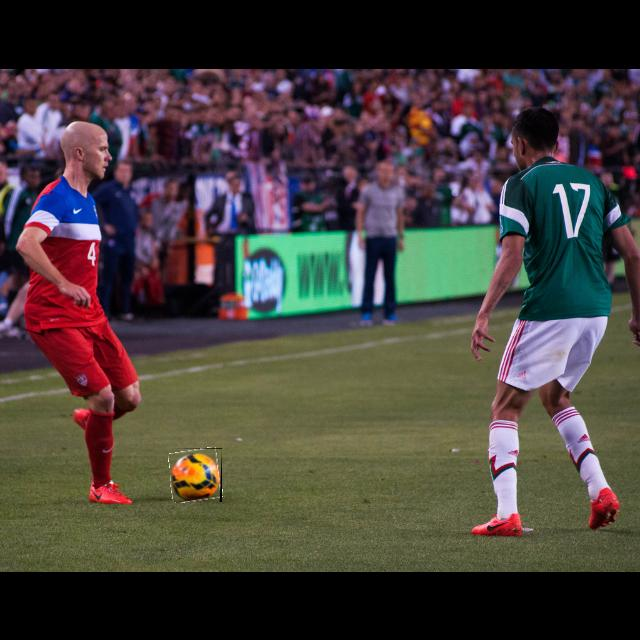Football: (170, 448, 222, 502)
